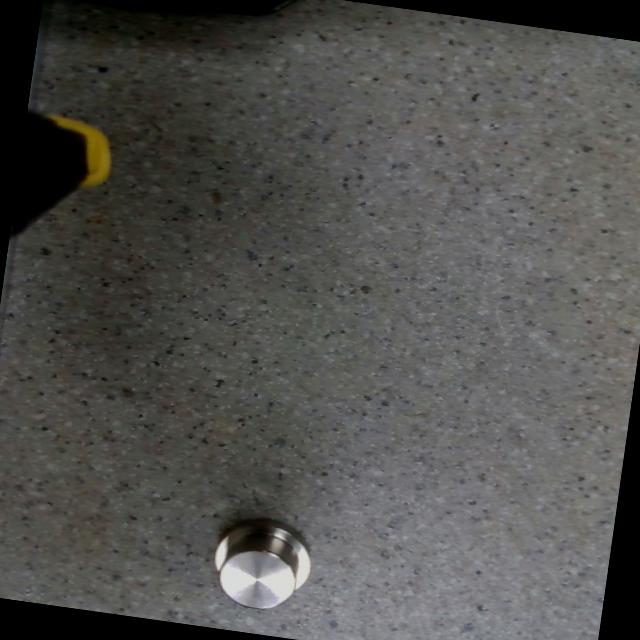sensor: (208, 510, 318, 613)
